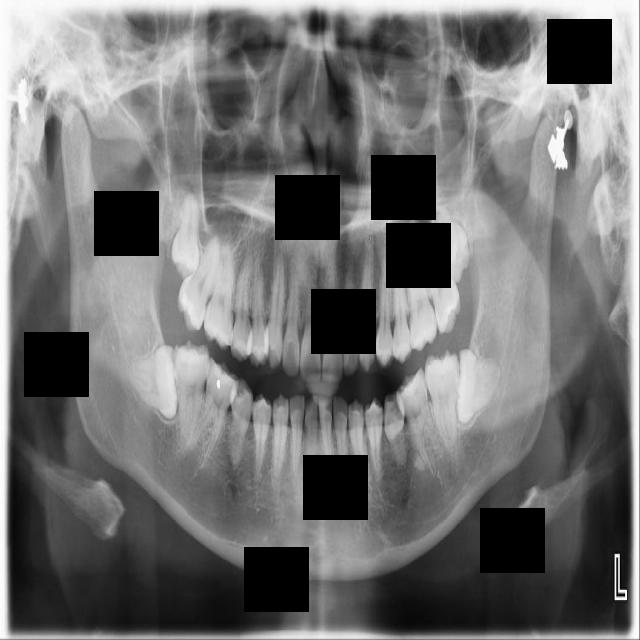3M ESPE Implant: (172, 194, 200, 281)
BioHorizons Implant: (419, 231, 465, 336)
BioLife Implant: (434, 206, 474, 286)
Biomet 3i Implant: (129, 343, 178, 420), (455, 349, 501, 425)
Blue Sky Bio Implant: (174, 340, 209, 457), (424, 350, 459, 452)
Caries: (169, 230, 227, 334)
